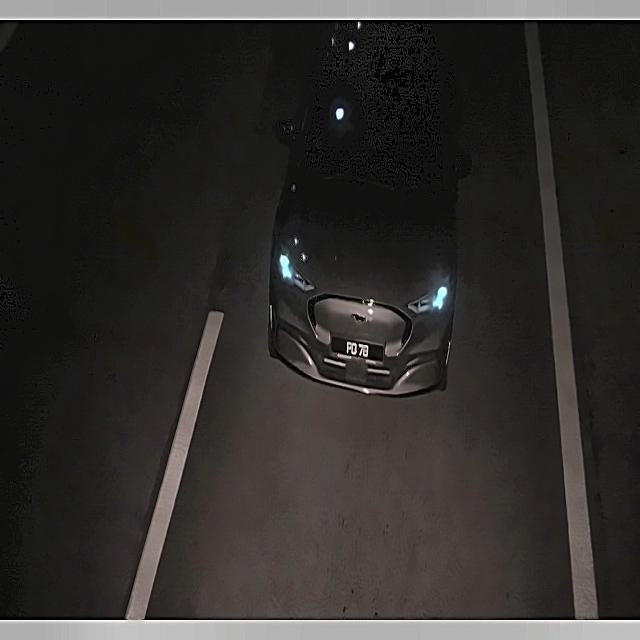car: (334, 326, 377, 369)
